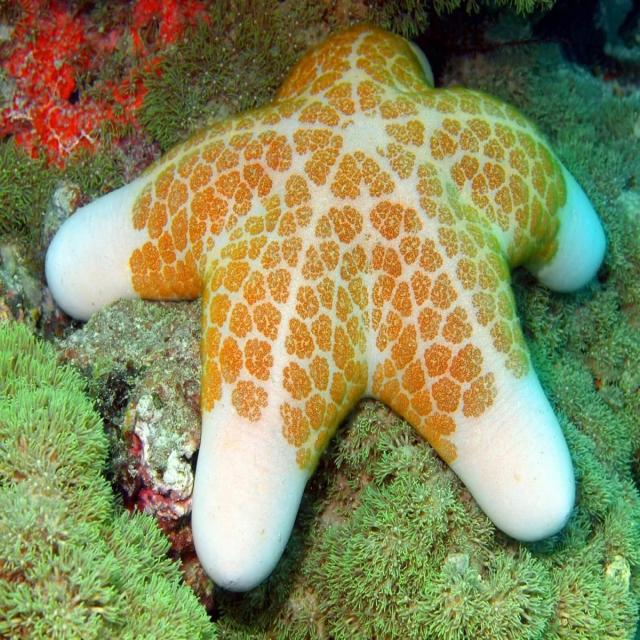starfish: (46, 28, 605, 589)
